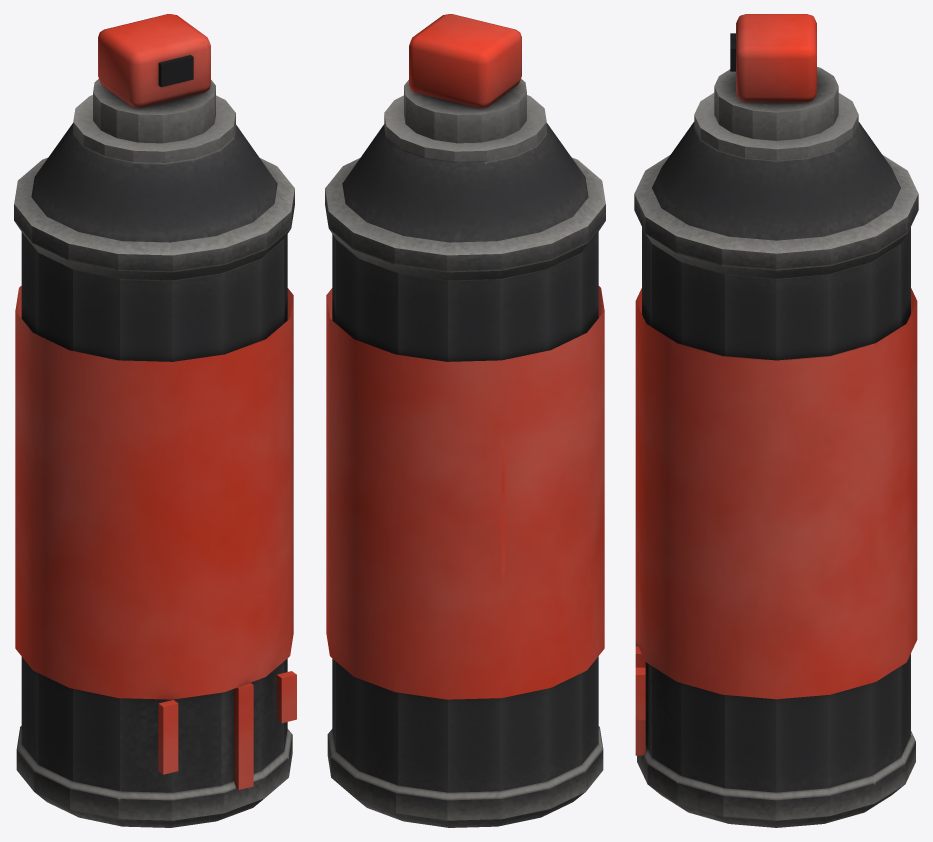
The model's file is spray_can.fbx.
3 views of the same model, side by side, from view 1: azimuth 30°, elevation 25°; view 2: azimuth 150°, elevation 25°; view 3: azimuth 270°, elevation 25° (orthographic).
Parts seen in each view (by area): view 1: Body, Button; view 2: Body, Button; view 3: Body, Button.
Boxes of the visible parts, left/top/right/bottom form: Body: left=14, top=79, right=296, bottom=827; Button: left=98, top=14, right=210, bottom=107; Body: left=325, top=79, right=605, bottom=827; Button: left=409, top=14, right=521, bottom=107; Body: left=634, top=67, right=918, bottom=827; Button: left=730, top=14, right=816, bottom=102.
Bounding box in the file's own units: 0.228 × 0.66 × 0.228.
Materials: 1 (1 with a texture image).
